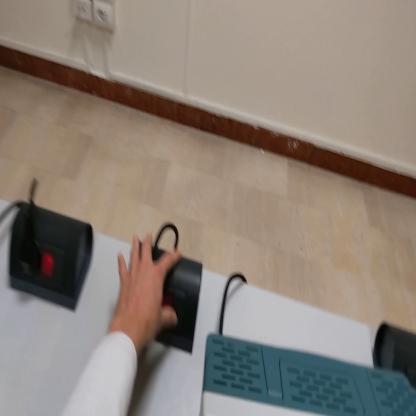hand: (114, 230, 182, 347)
oscilloscope: (195, 335, 416, 416)
socket: (10, 205, 97, 316), (142, 246, 206, 358)
